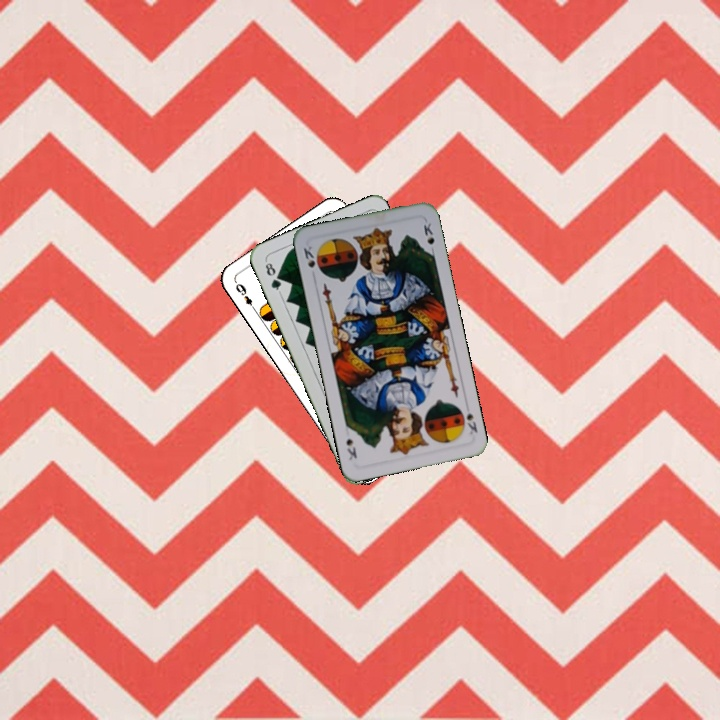E9: (231, 278, 259, 314)
G8: (261, 257, 284, 296)
SK: (461, 400, 480, 437), (299, 242, 318, 270)
